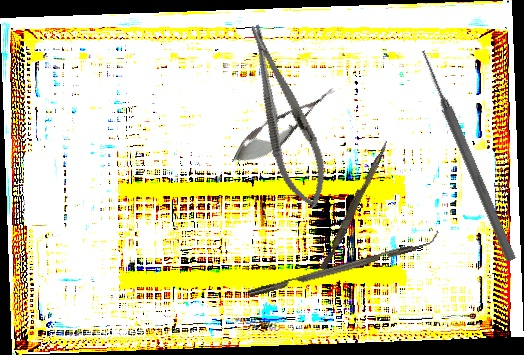Chopper: (245, 230, 443, 297)
Micro Scissor: (223, 76, 344, 175)
Needle Holder: (233, 17, 338, 215)
Pusher: (416, 48, 519, 263), (319, 138, 390, 272)
